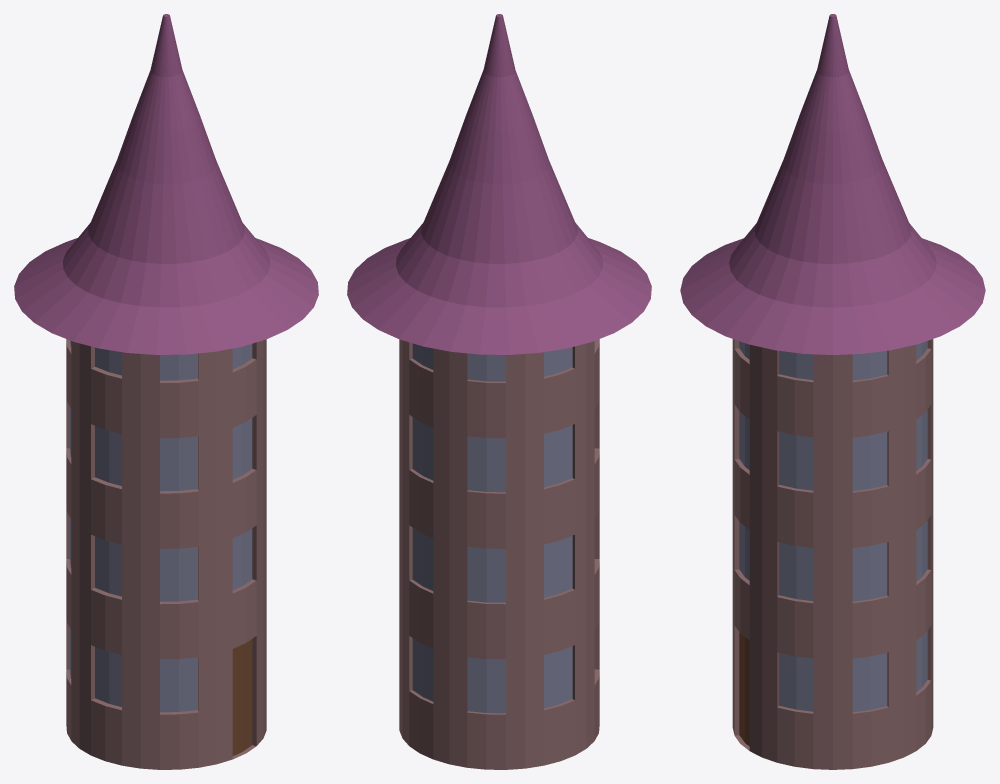
File: building 3.fbx
3 renders of one model, left to right at view 1: azimuth 30°, elevation 25°; view 2: azimuth 150°, elevation 25°; view 3: azimuth 270°, elevation 25°, orthographic.
Visible parts, largest first — view 1: Cylinder; view 2: Cylinder; view 3: Cylinder.
Part boxes in pixels (bbox=[...]): Cylinder: bbox=[14, 14, 318, 769]; Cylinder: bbox=[347, 14, 651, 769]; Cylinder: bbox=[680, 14, 985, 769].
Size of the model in its own units: 456 by 1174 by 456.
